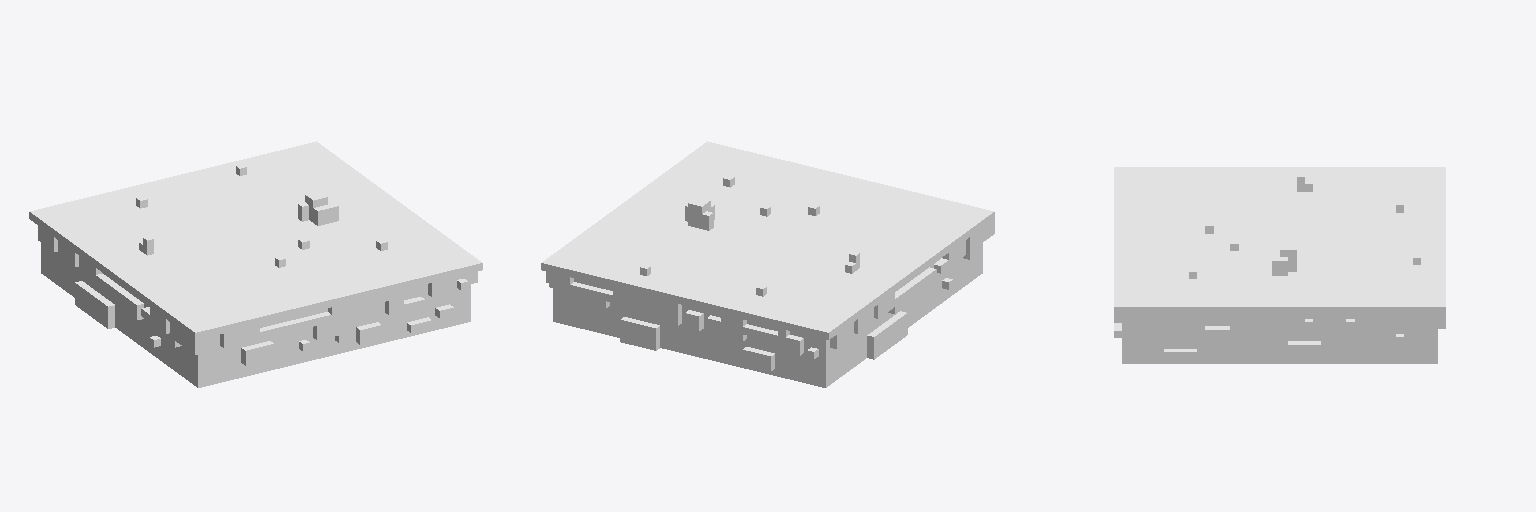
The model's file is LavaObj-3.obj.
The picture shows the model from 3 angles: view 1: azimuth 30°, elevation 25°; view 2: azimuth 150°, elevation 25°; view 3: azimuth 270°, elevation 25°; orthographic projection.
Parts seen in each view (by area): view 1: object 1; view 2: object 1; view 3: object 1.
Boxes of the visible parts, <box> form: object 1: <box>29,141,482,387</box>; object 1: <box>541,141,994,387</box>; object 1: <box>1114,167,1445,363</box>.
Bounding box in the file's own units: 4 × 1.1 × 4.